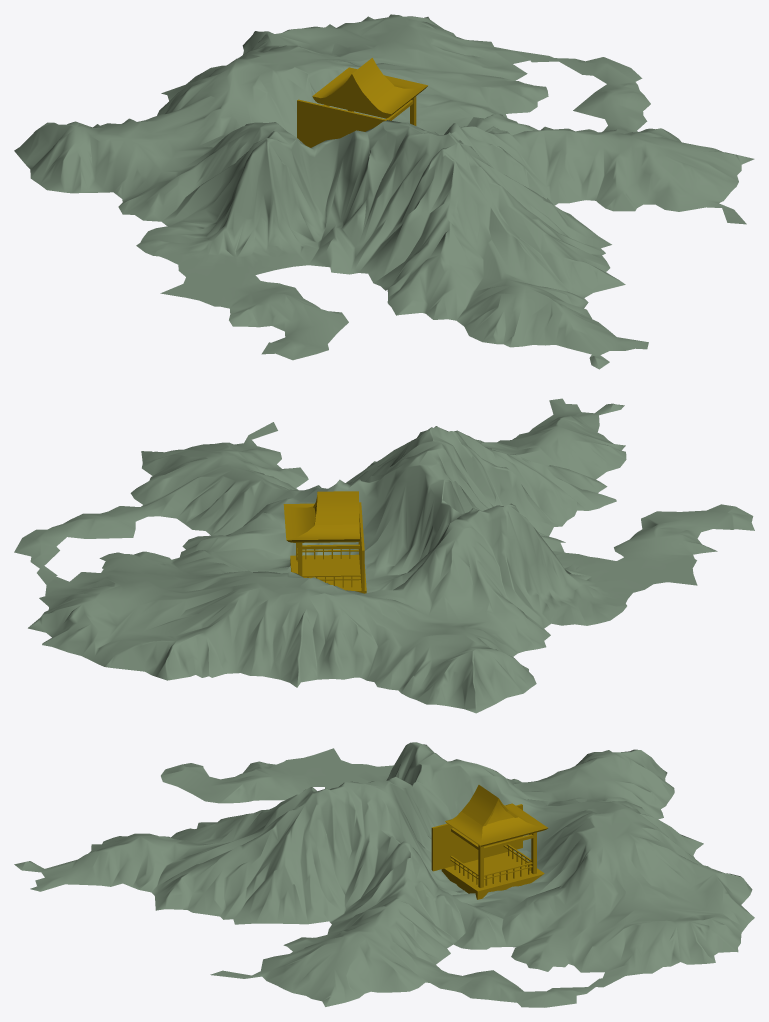
The model's file is IslandWork.glb.
3 renders of one model, top to bottom at view 1: azimuth 30°, elevation 25°; view 2: azimuth 150°, elevation 25°; view 3: azimuth 270°, elevation 25°, orthographic. The views are drawn at different scales.
Visible parts, largest first — view 1: IslandWork; view 2: IslandWork; view 3: IslandWork.
Boxes of the visible parts, box(x1,y1,x2,y2) form: IslandWork: box(14, 14, 754, 369); IslandWork: box(14, 398, 754, 713); IslandWork: box(14, 742, 754, 1007).
Size of the model in its own units: 795 by 130 by 980.
